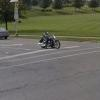Motorcycle: (31, 27, 71, 49)
